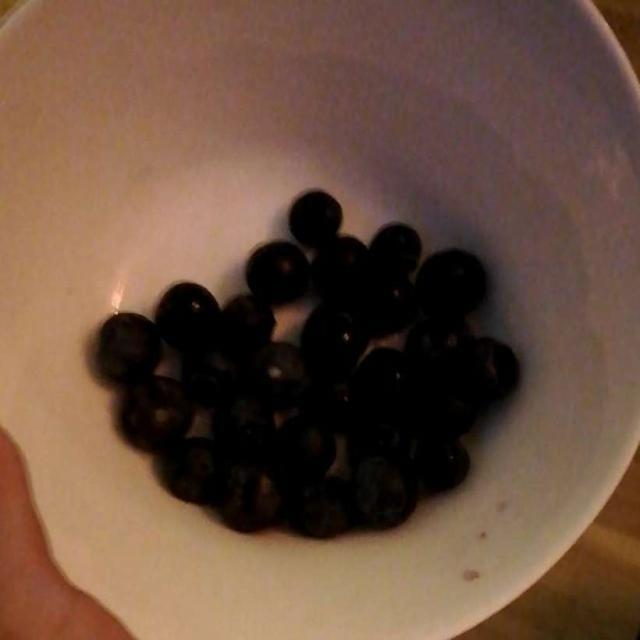blueberries: (106, 193, 517, 533)
